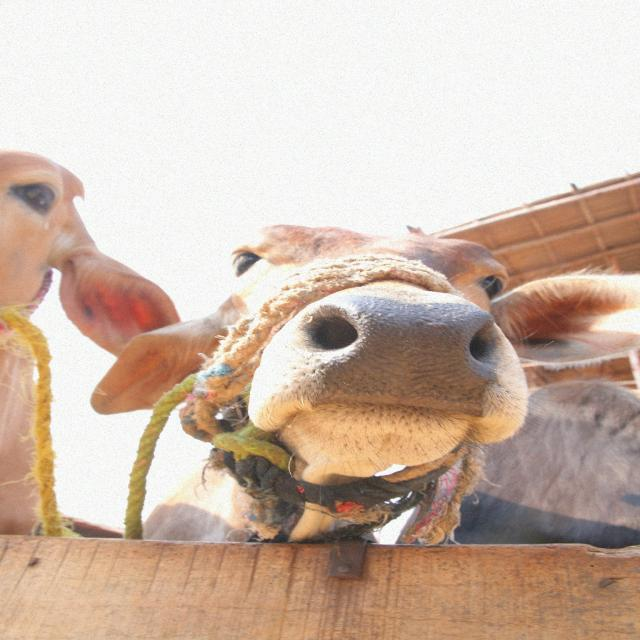muzzles: (284, 288, 510, 417)
